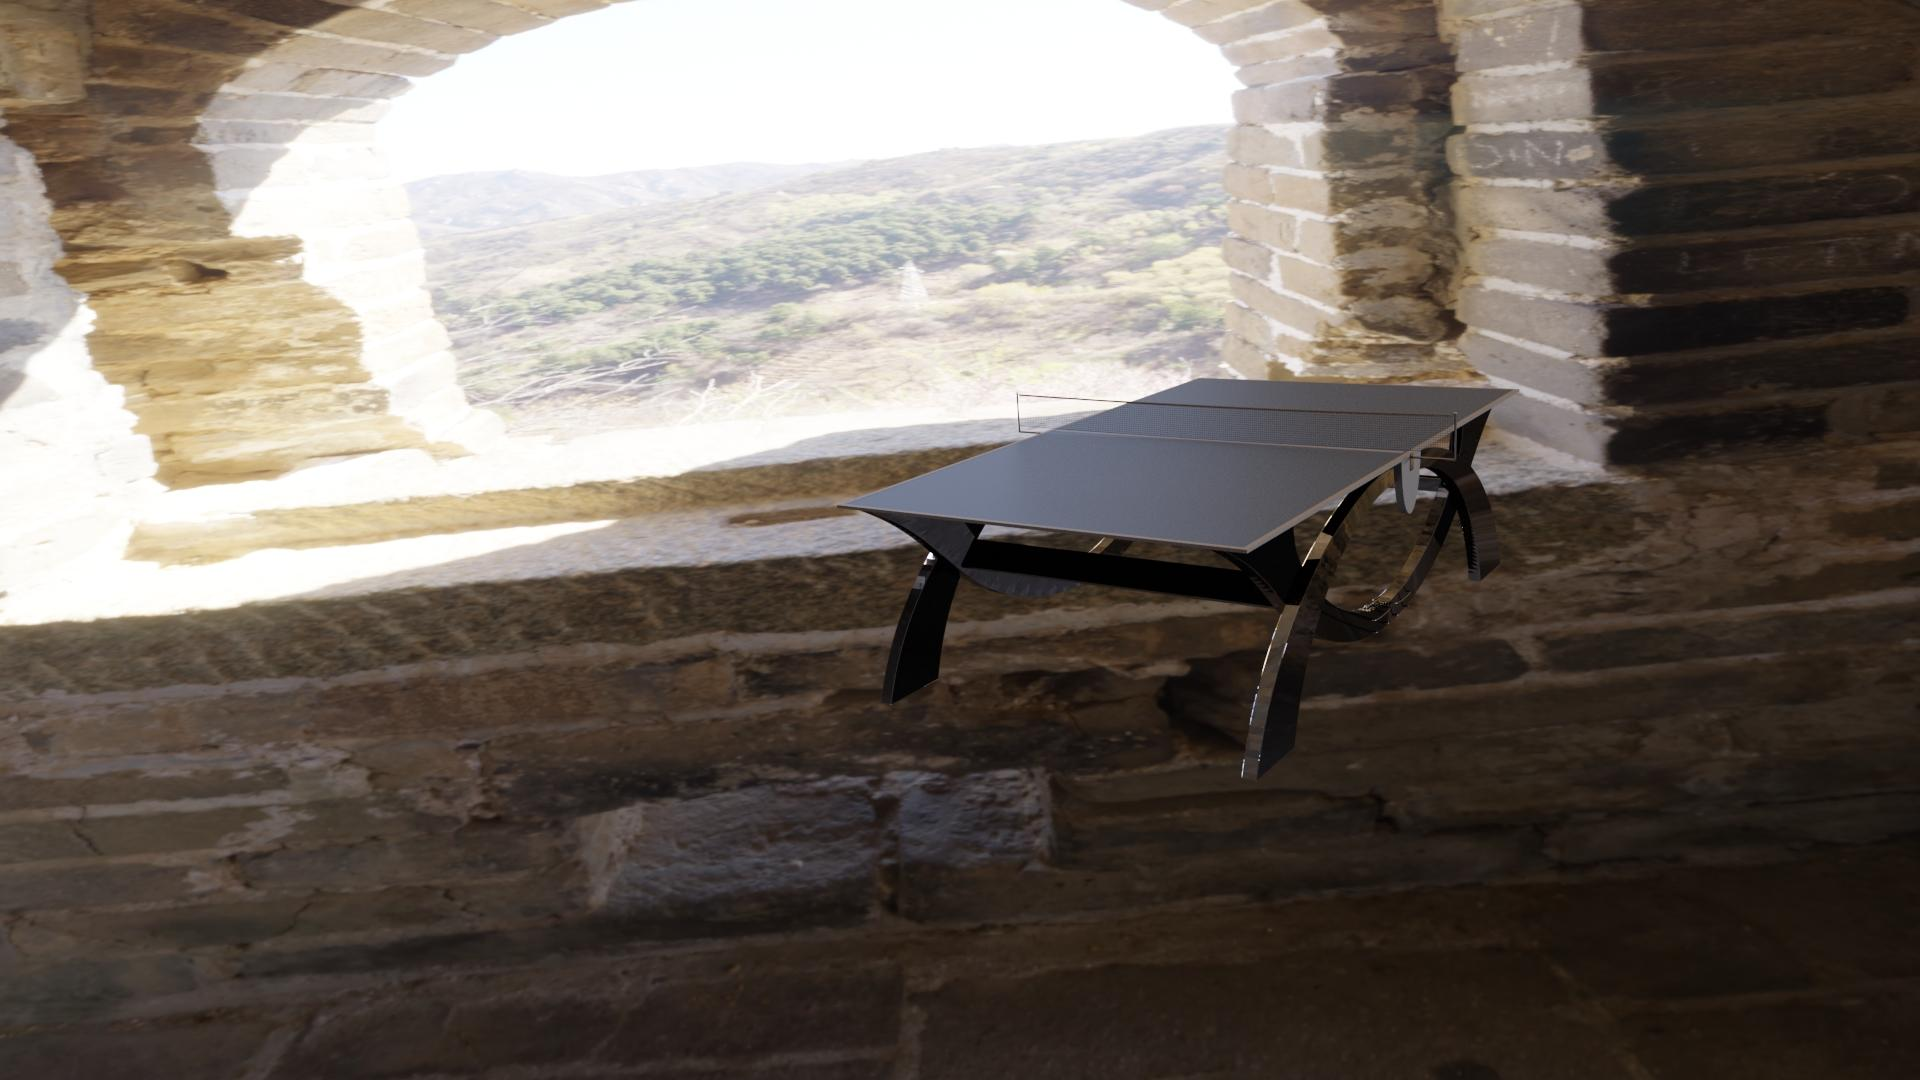table: (845, 378, 1514, 547)
